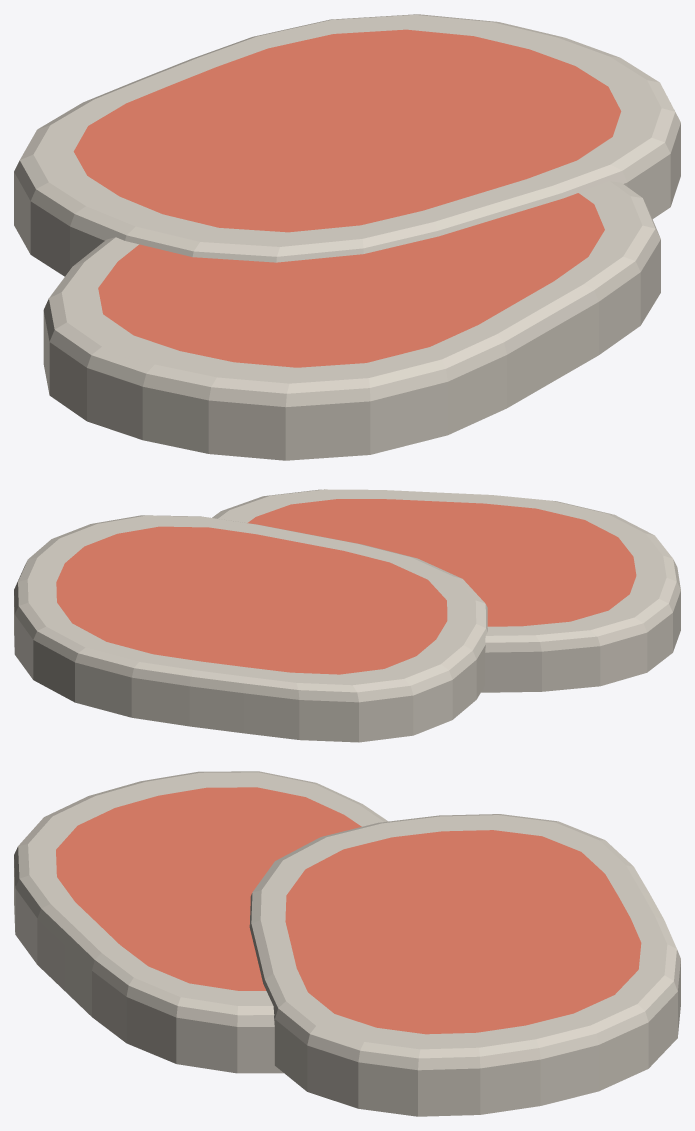
The model's file is LomoPeru2.fbx.
3 renders of one model, top to bottom at view 1: azimuth 30°, elevation 25°; view 2: azimuth 150°, elevation 25°; view 3: azimuth 270°, elevation 25°, orthographic. The views are drawn at different scales.
Parts seen in each view (by area): view 1: Lomo; view 2: Lomo; view 3: Lomo.
Part boxes in pixels (x1=…): Lomo: x1=14, y1=14, x2=680, y2=460; Lomo: x1=14, y1=489, x2=680, y2=742; Lomo: x1=14, y1=771, x2=680, y2=1116.
Bounding box in the file's own units: 23.5 × 2.5 × 22.1.
